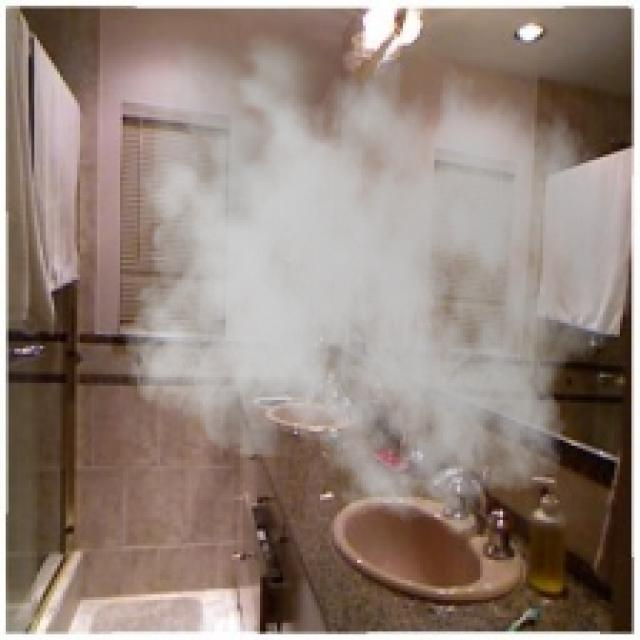Smoke: (108, 5, 634, 538)
